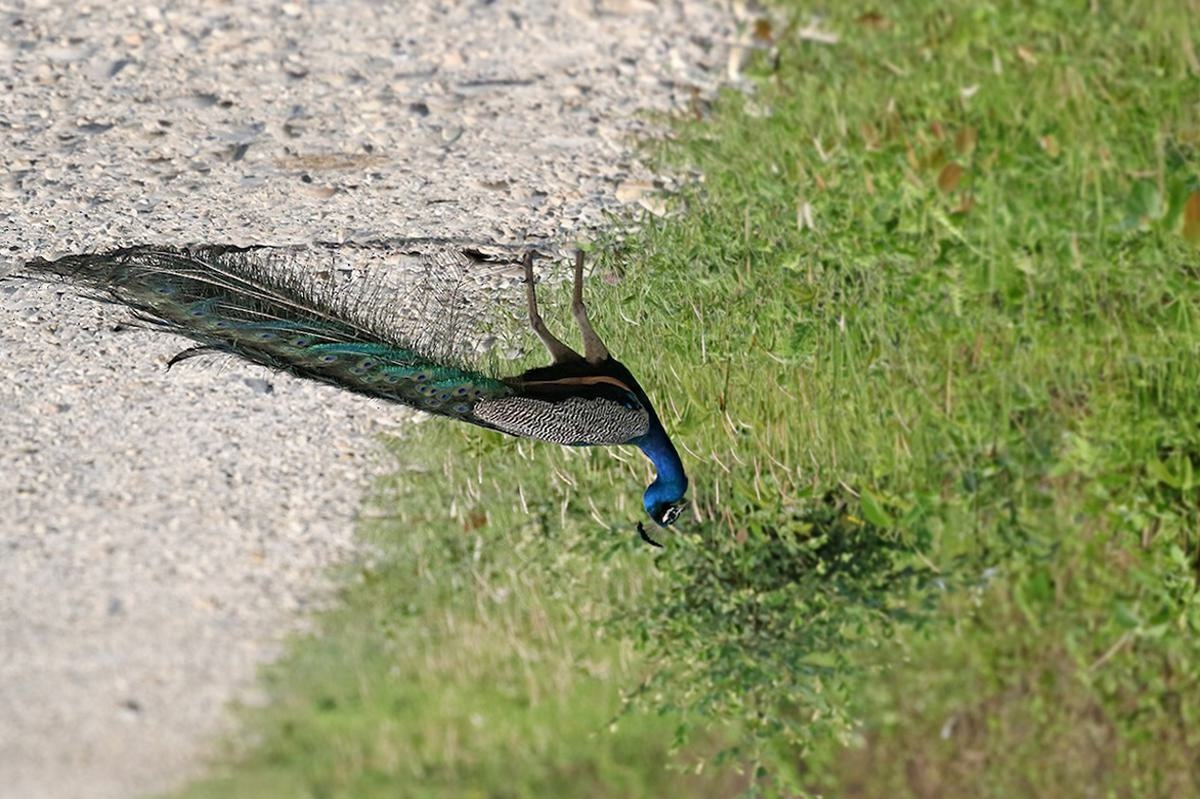peacock: (81, 156, 715, 553)
